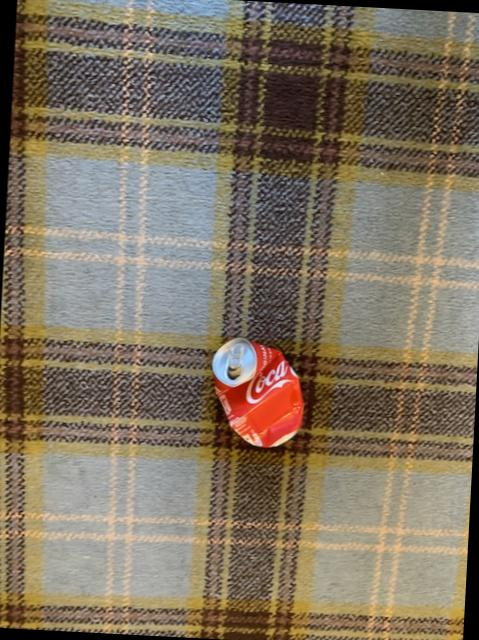metal: (210, 335, 301, 444)
